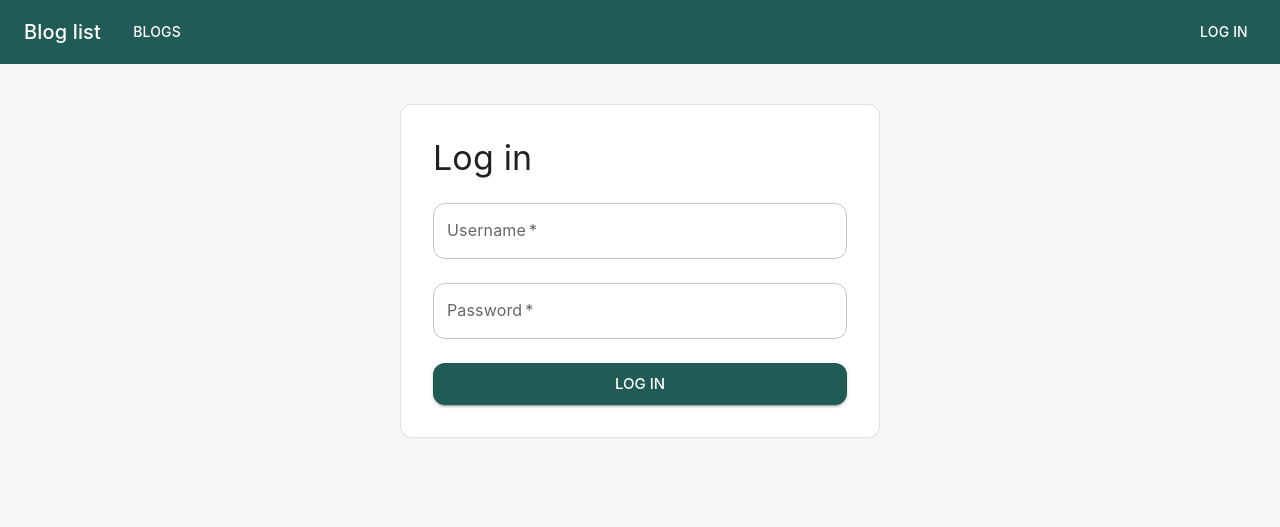
Blog list › shows a login error and allows another attempt
Type "alice" into the field labelled "Username" at (640, 231), box [433,203,847,259]
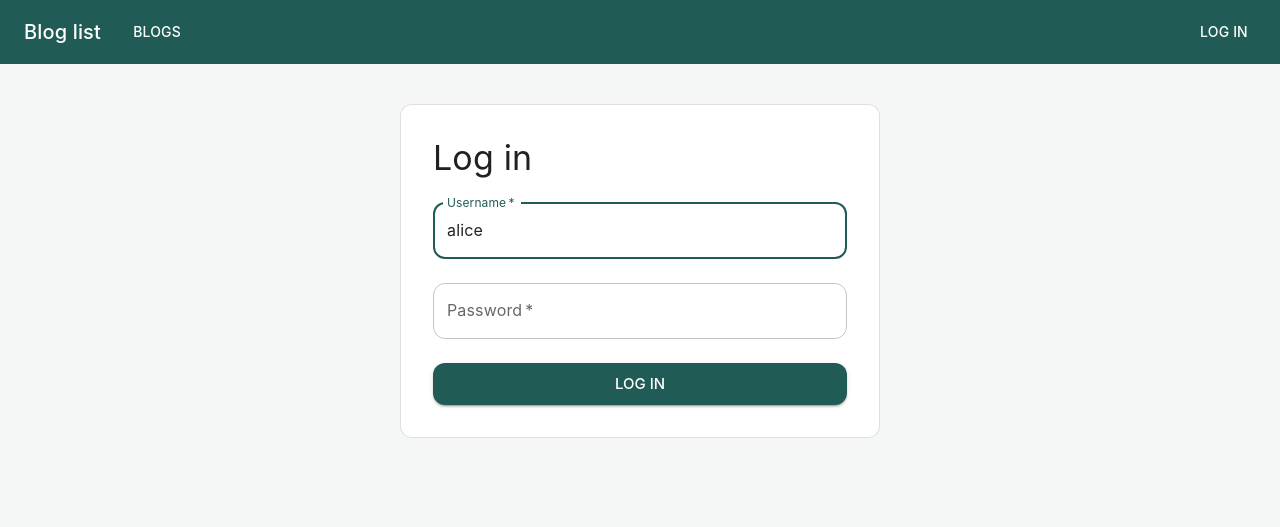
Type "wrong" into the password field labelled "Password" at (640, 311), box [433,283,847,339]
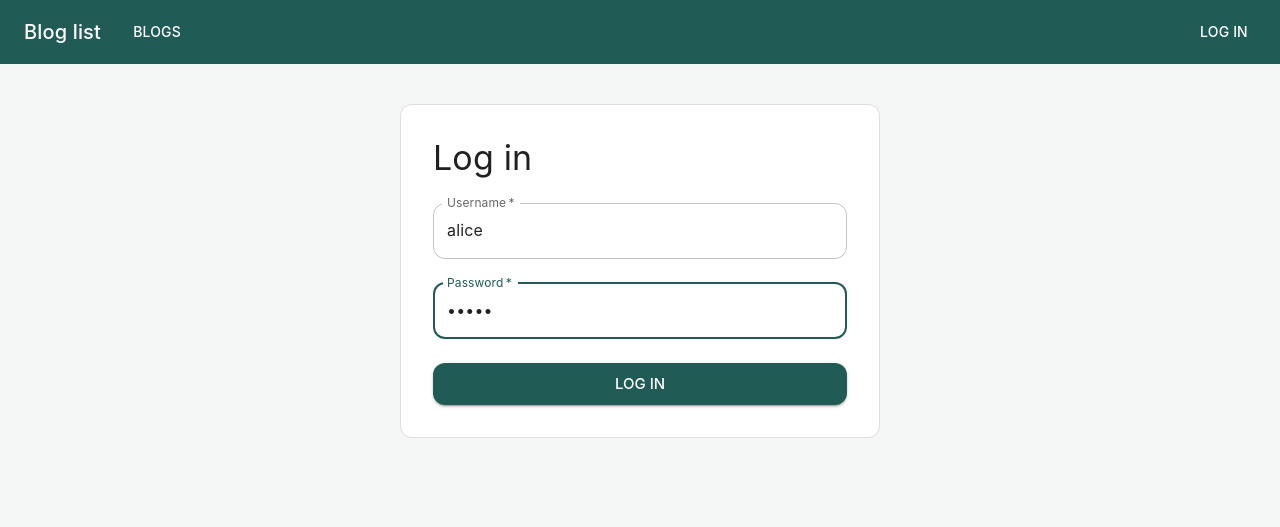
Click the button "Log in" at (640, 384), box [433,363,847,405]
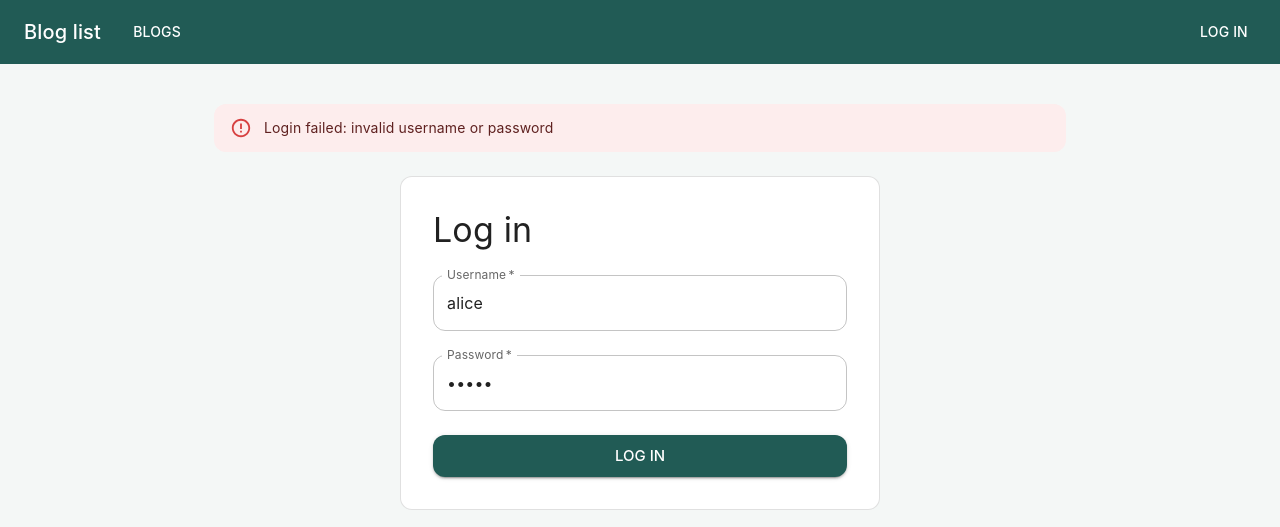
Click the button "Log in" at (640, 456), box [433,435,847,477]
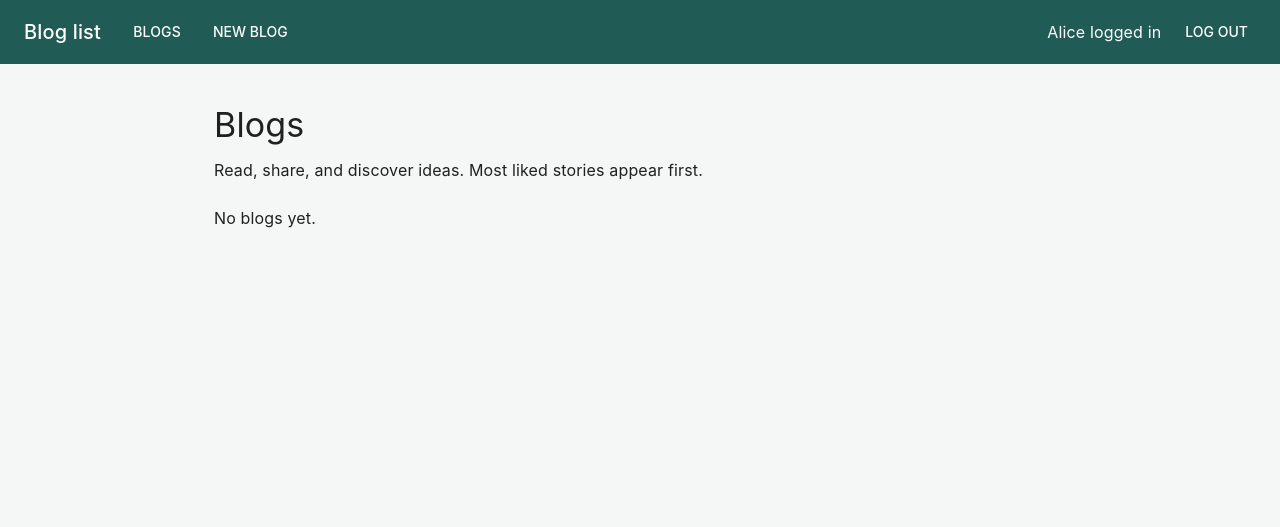
Now the text "Alice logged in" is shown, box [1047,20,1161,44]
